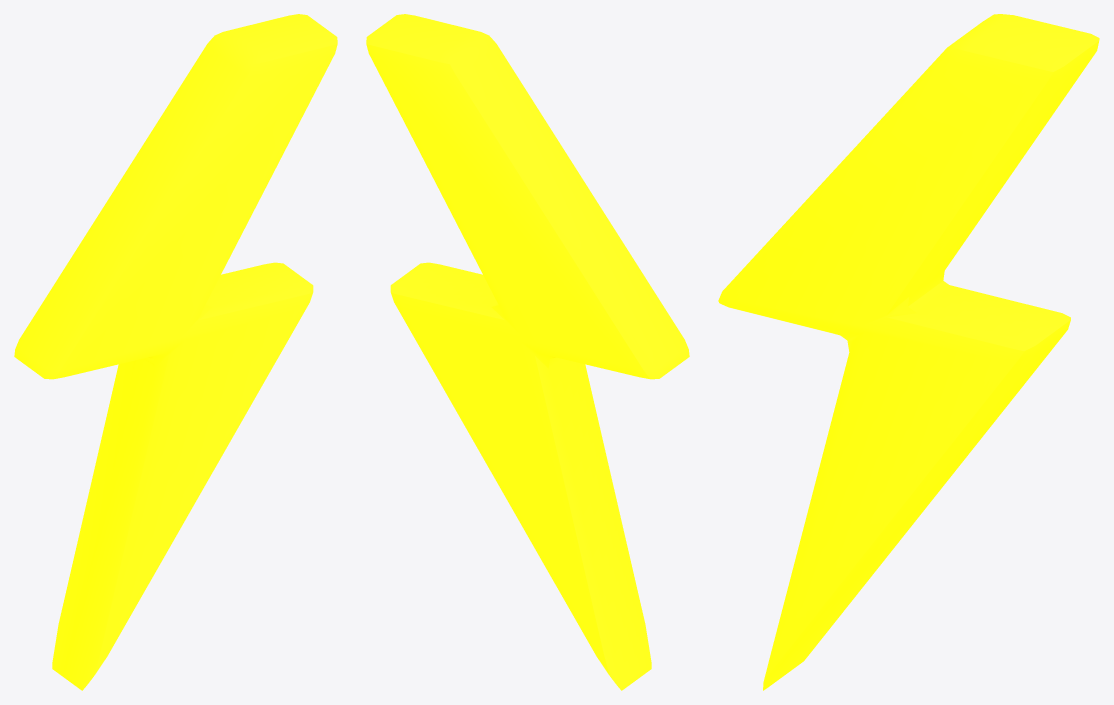
The model's file is bolt.glb.
3 renders of one model, left to right at view 1: azimuth 30°, elevation 25°; view 2: azimuth 150°, elevation 25°; view 3: azimuth 330°, elevation 25°, orthographic. The views are drawn at different scales.
Parts seen in each view (by area): view 1: Bolt; view 2: Bolt; view 3: Bolt.
Part boxes in pixels (x1,y1,x2,y2): Bolt: (14, 14, 337, 690); Bolt: (366, 14, 689, 690); Bolt: (718, 14, 1099, 690).
Size of the model in its own units: 0.7329 by 1.42 by 0.2.
